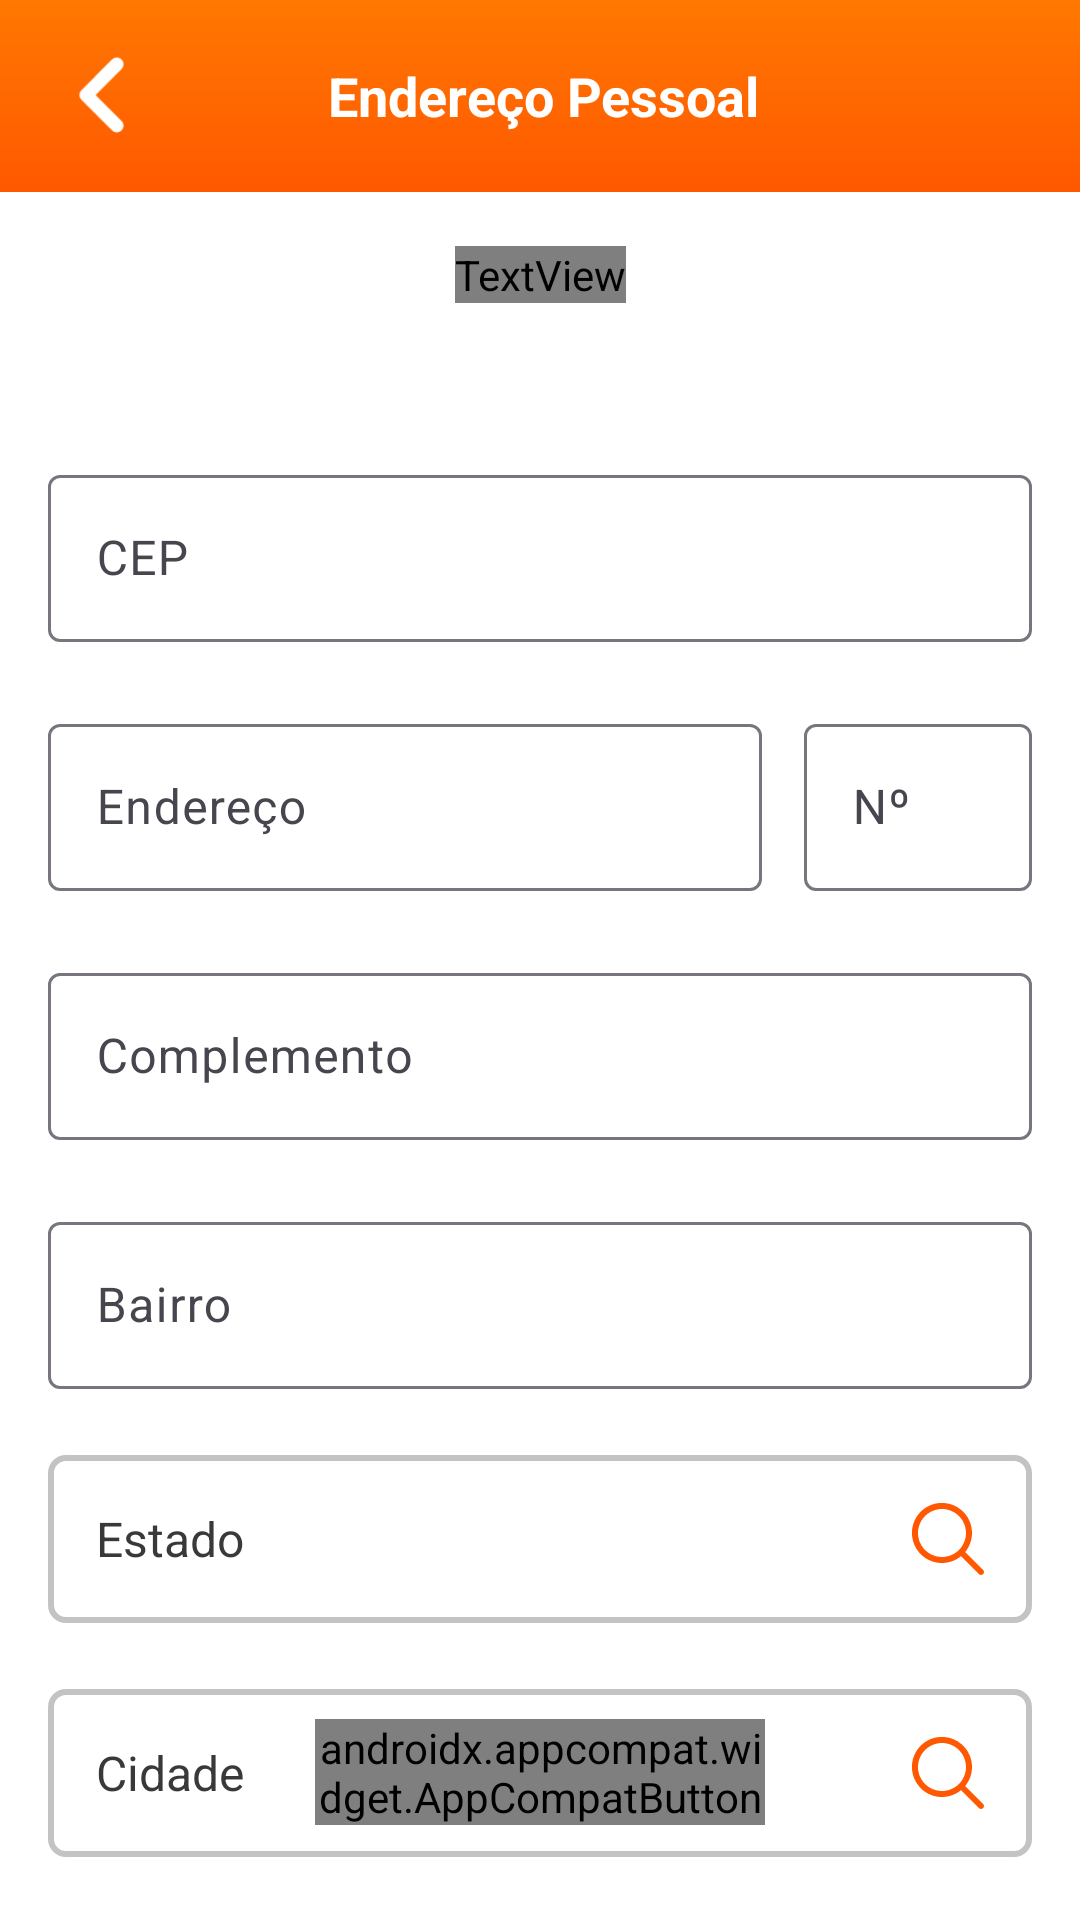

Named icons in this screenshot (1080px x 1920px) and their bounding boxes, (x1, y1, x2, y2):
back: (48, 57, 156, 162)
